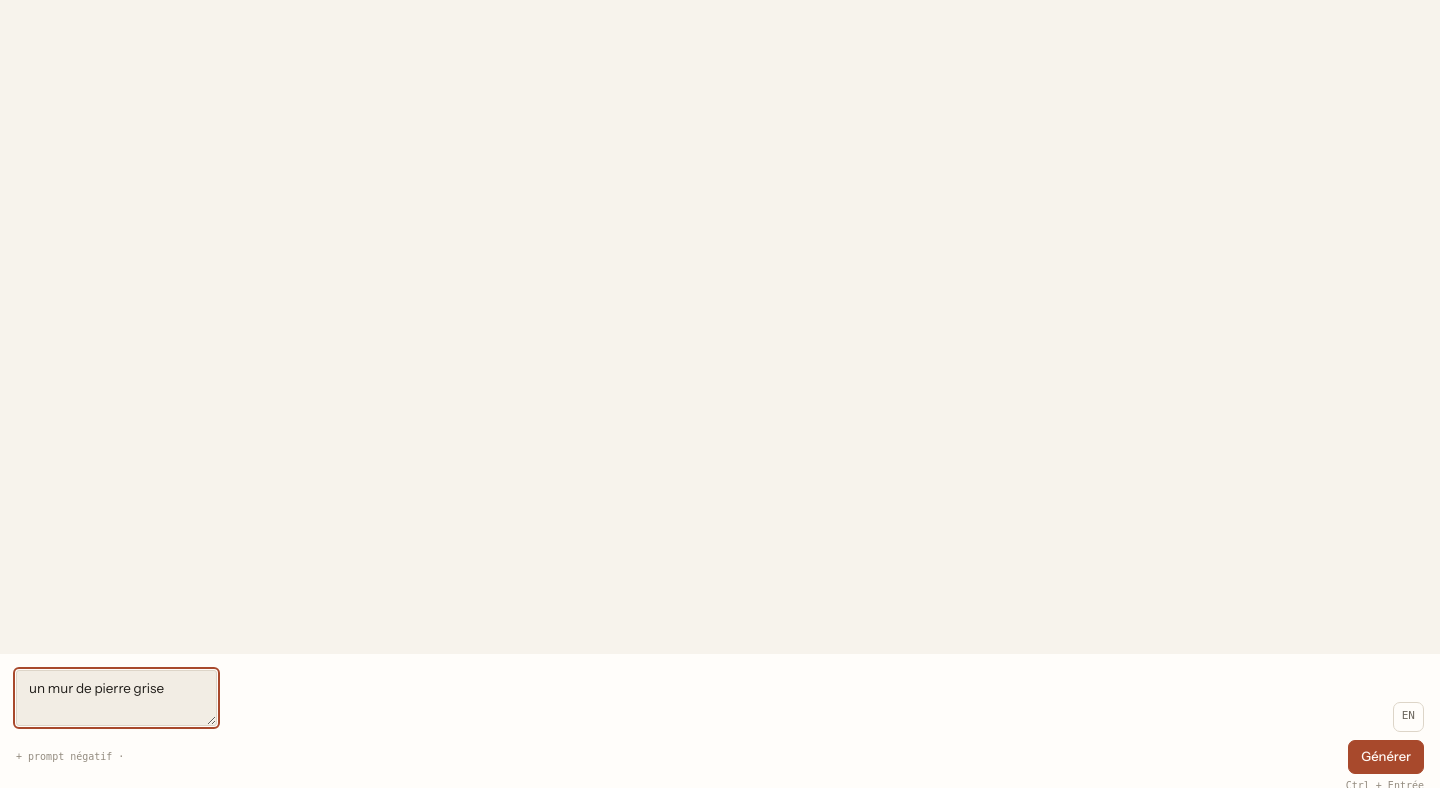
it: le champ partagé porte la marque par lui-même › sur le prompt négatif, une fois le repli ouvert
(page scrolled)
Expected: the button with aria-label "Proposer en anglais" is shown, [1393,702,1424,732]
Step 1. Click the button "+ prompt négatif ·" → (70, 756), box [16,740,124,774]
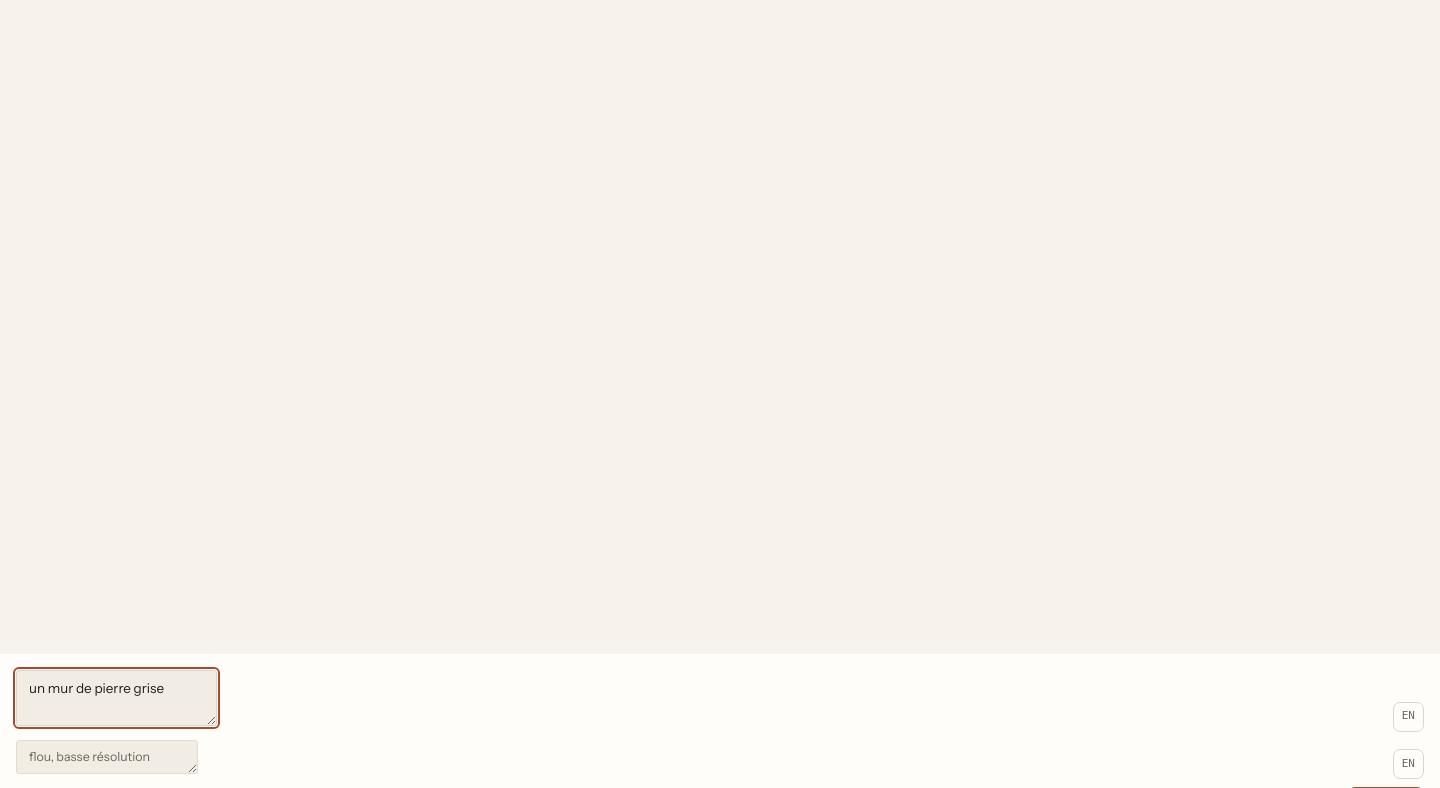
Expected: the number of buttons named "Proposer en anglais" is 2, [1393,702,1424,732]; [1393,749,1424,779]
